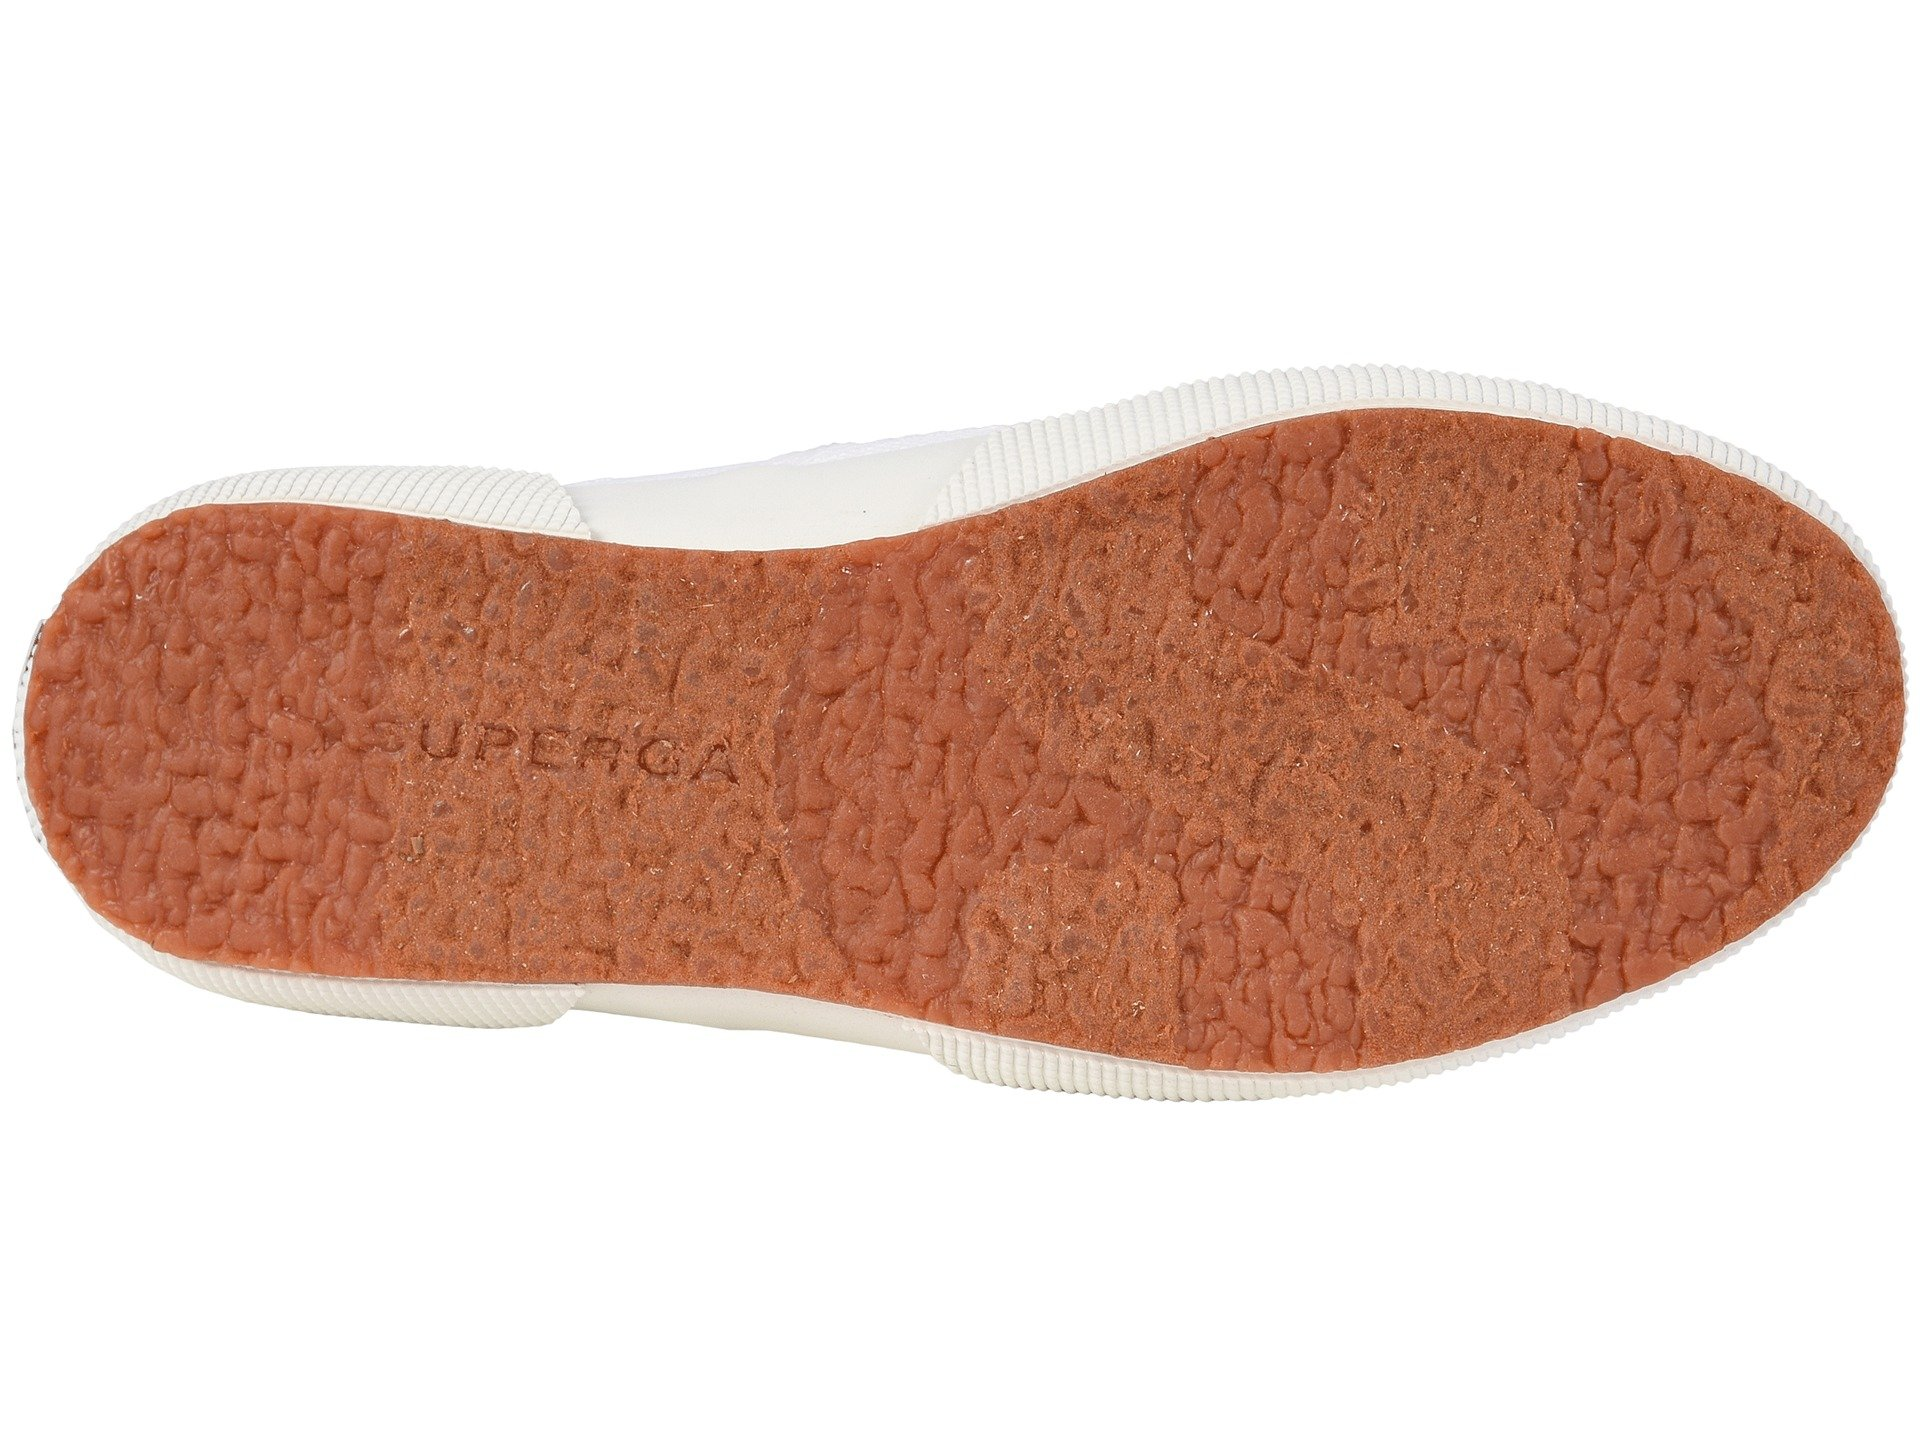other: (1126, 103, 1680, 629), (197, 171, 653, 631), (667, 201, 1137, 638)
